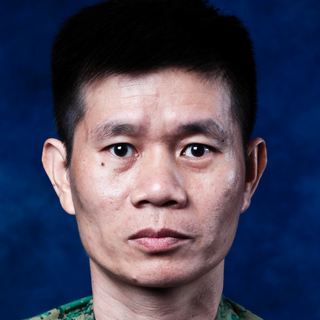eye: (173, 139, 220, 164), (100, 138, 142, 164)
